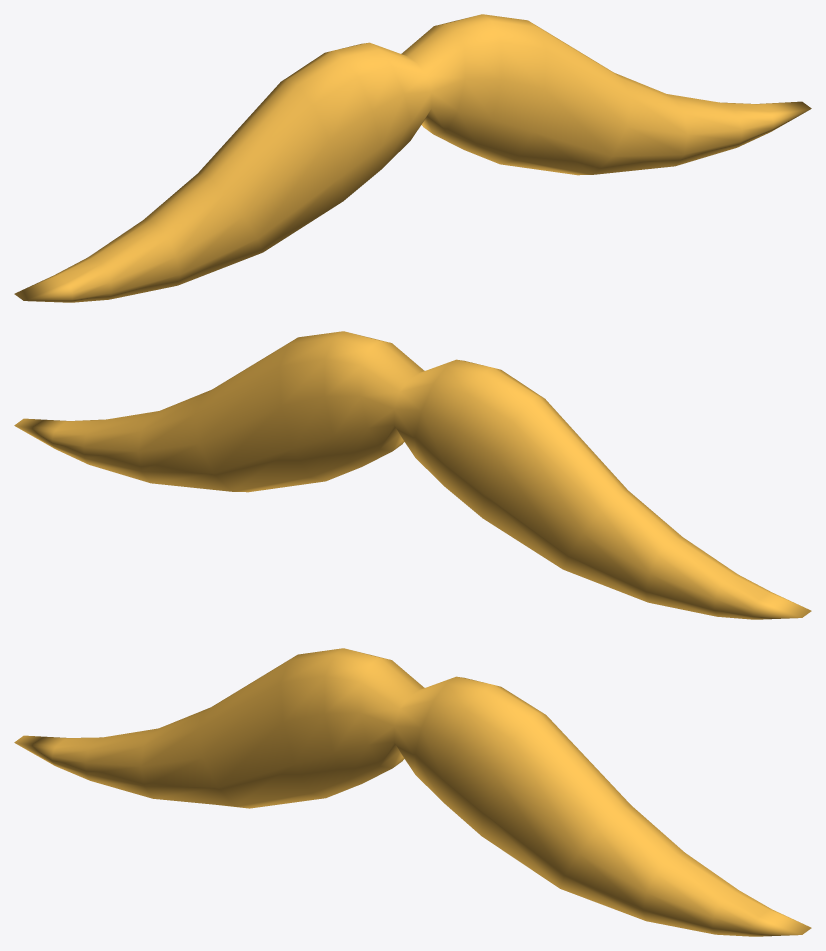
The model's file is Beard_12_05.fbx.
The picture shows the model from 3 angles, top to bottom: view 1: azimuth 30°, elevation 25°; view 2: azimuth 150°, elevation 25°; view 3: azimuth 330°, elevation 25°; orthographic projection.
Visible parts, largest first — view 1: Beard_12_05; view 2: Beard_12_05; view 3: Beard_12_05.
Part boxes in pixels (x1,y1,x2,y2): Beard_12_05: (14,14,811,302); Beard_12_05: (14,331,811,619); Beard_12_05: (14,648,811,936).
Bounding box in the file's own units: 19.83 × 4.47 × 2.17.
